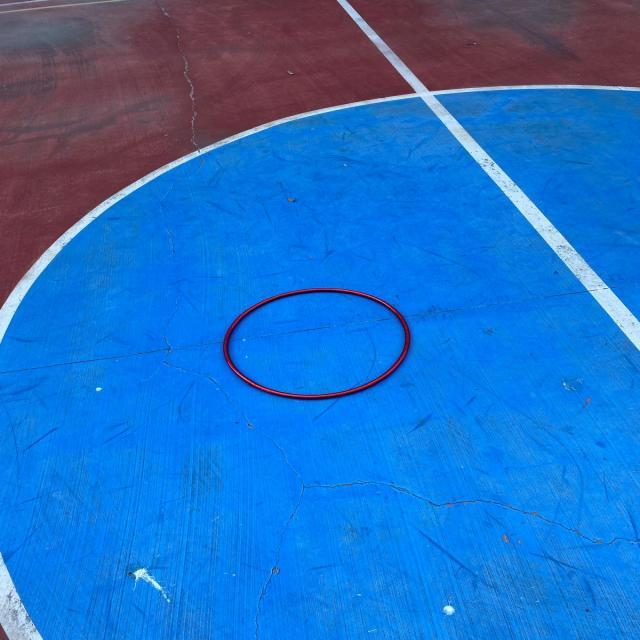Circle: (222, 287, 412, 400)
